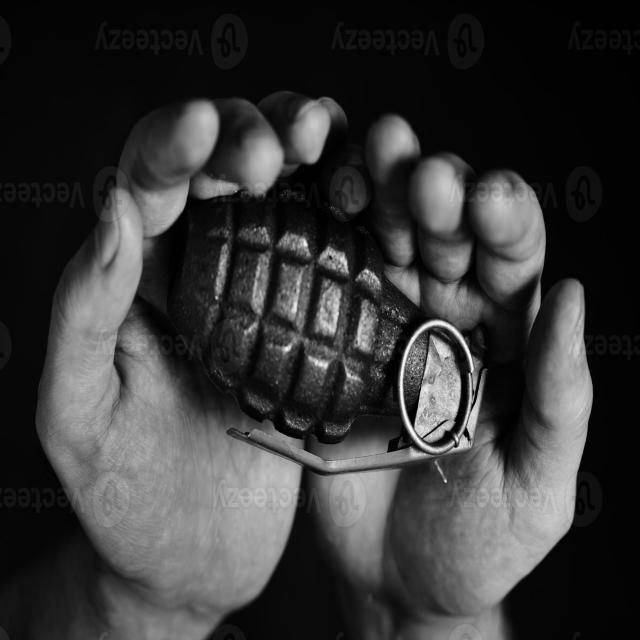grenade: (170, 180, 488, 479)
